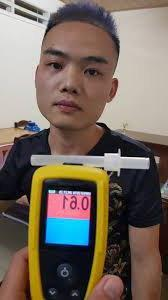Drunk: (40, 25, 111, 128)
